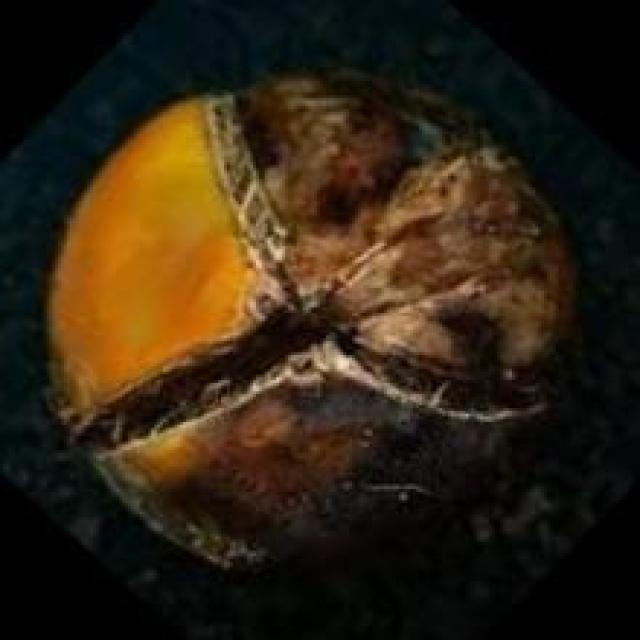damaged: (47, 73, 576, 570)
